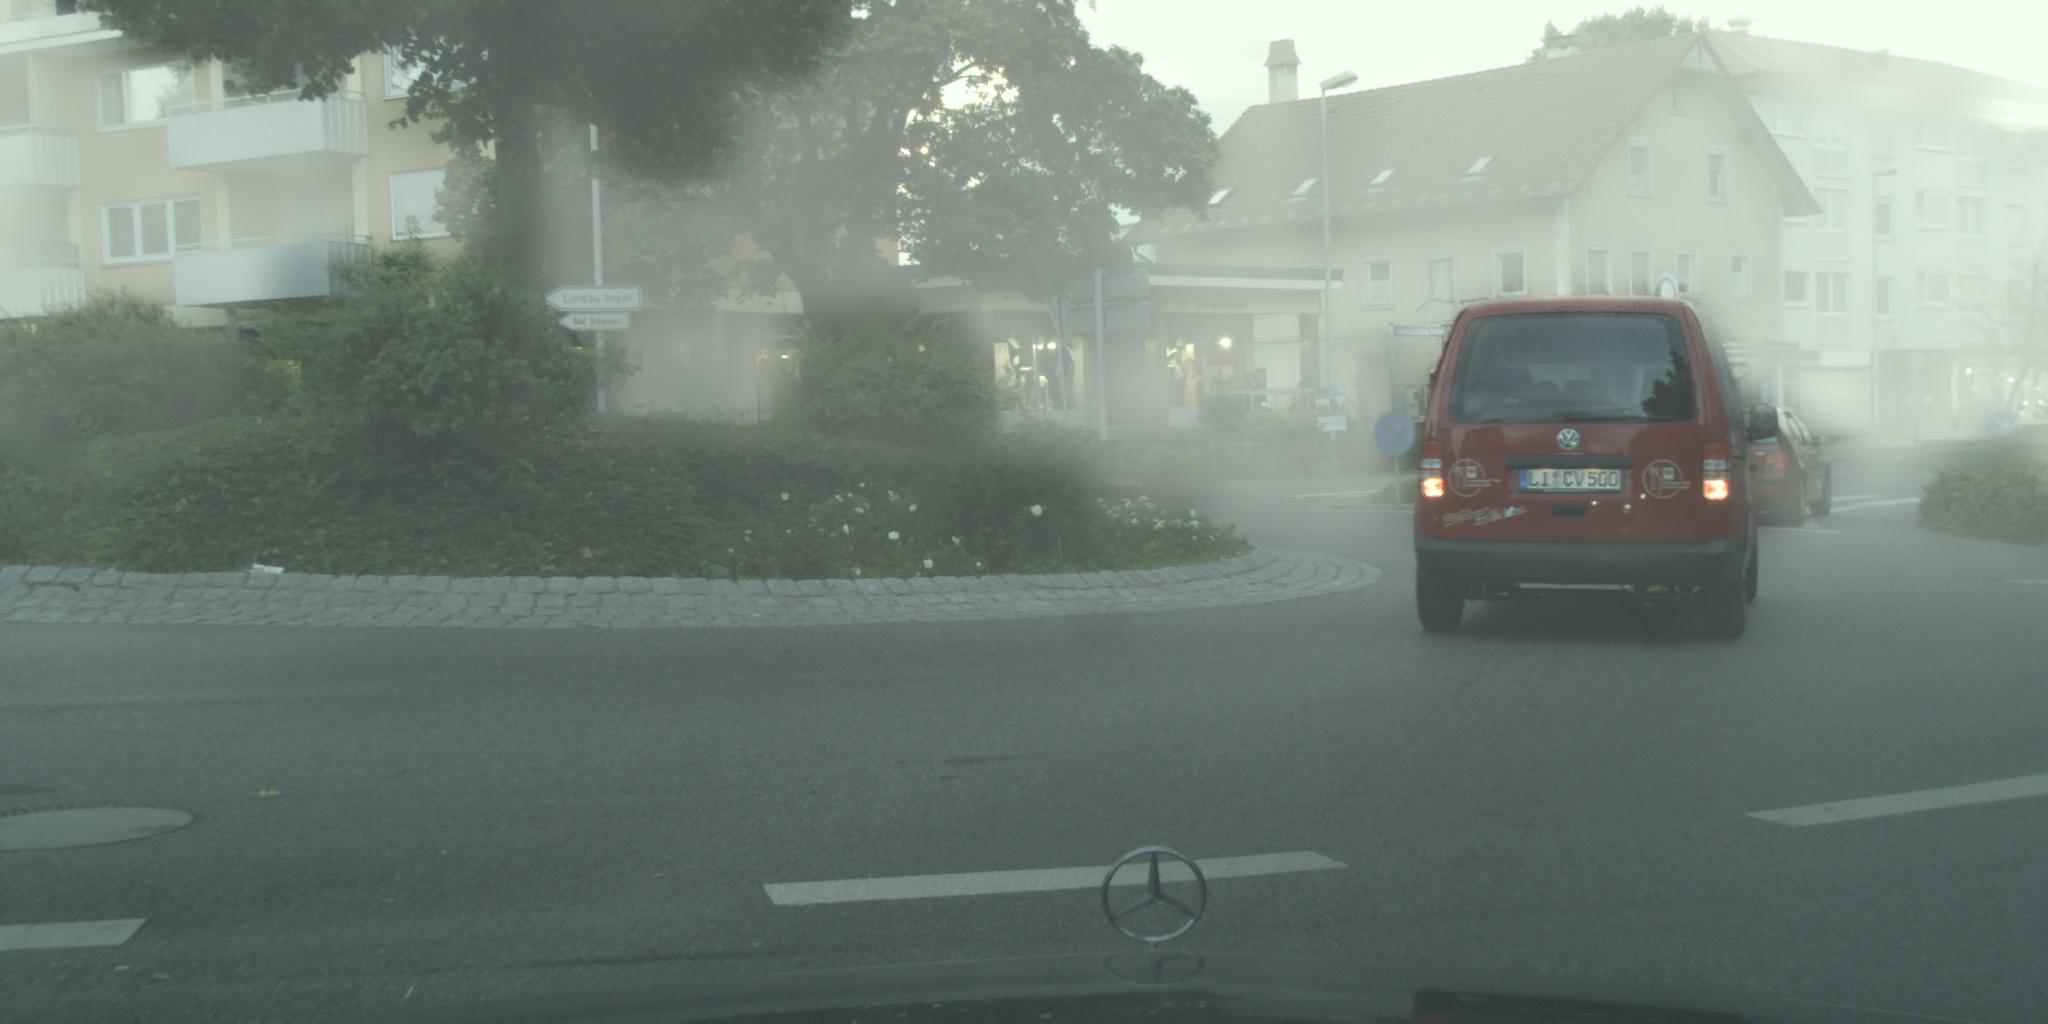car: (1416, 294, 1780, 640), (1723, 404, 1834, 530)
